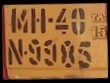character: (6, 37, 24, 65), (11, 7, 29, 34), (70, 6, 86, 35), (30, 7, 46, 35), (42, 38, 58, 66), (54, 6, 69, 35), (60, 39, 75, 68), (77, 40, 92, 69), (27, 38, 42, 65)
